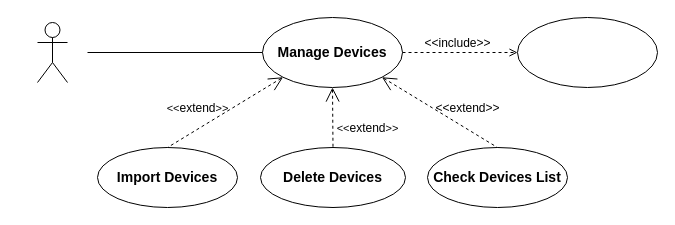
Some shapes in this 675 by 225 pixel diagram are drawn without their labels. The centre of each missing label's shape, as x and y in pixels:
Authenticate: the point at 587,52
IP Engineer: the point at 52,52
